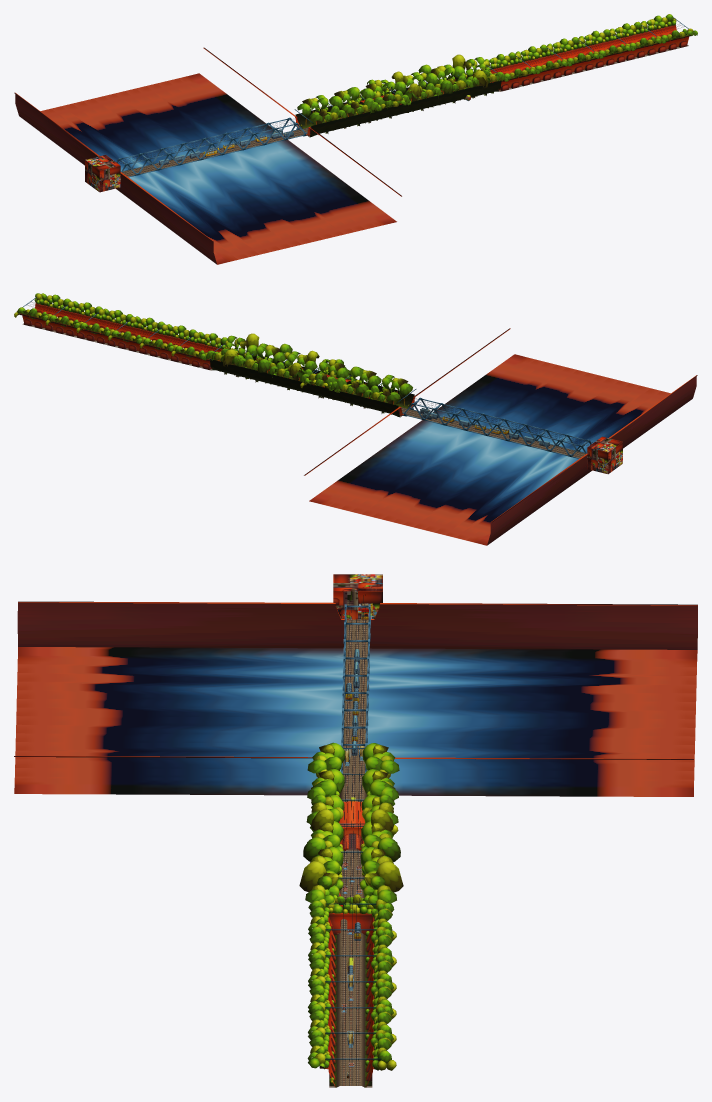
3 views of the same model, one above another, from view 1: azimuth 30°, elevation 25°; view 2: azimuth 150°, elevation 25°; view 3: azimuth 270°, elevation 25° (orthographic). The views are drawn at different scales.
Visible parts, largest first — view 1: StaticMeshActor_247, StaticMeshActor_256, StaticMeshActor_237, StaticMeshActor_236, StaticMeshActor_238, StaticMeshActor_248; view 2: StaticMeshActor_247, StaticMeshActor_256, StaticMeshActor_237, StaticMeshActor_236, StaticMeshActor_238, StaticMeshActor_248; view 3: StaticMeshActor_247, StaticMeshActor_256, StaticMeshActor_237, StaticMeshActor_236, StaticMeshActor_238, StaticMeshActor_248, StaticMeshActor_280, StaticMeshActor_260.
Boxes of the visible parts, bbox=[...] form: StaticMeshActor_247: bbox=[14, 47, 401, 264]; StaticMeshActor_256: bbox=[295, 54, 508, 137]; StaticMeshActor_237: bbox=[609, 14, 697, 61]; StaticMeshActor_236: bbox=[547, 29, 635, 76]; StaticMeshActor_238: bbox=[484, 44, 571, 91]; StaticMeshActor_248: bbox=[85, 155, 120, 192]; StaticMeshActor_247: bbox=[304, 328, 697, 545]; StaticMeshActor_256: bbox=[202, 333, 415, 417]; StaticMeshActor_237: bbox=[14, 293, 102, 339]; StaticMeshActor_236: bbox=[76, 308, 164, 354]; StaticMeshActor_238: bbox=[139, 324, 227, 370]; StaticMeshActor_248: bbox=[587, 436, 622, 474]; StaticMeshActor_247: bbox=[14, 594, 697, 796]; StaticMeshActor_256: bbox=[299, 742, 403, 930]; StaticMeshActor_237: bbox=[307, 1003, 396, 1087]; StaticMeshActor_236: bbox=[308, 952, 396, 1036]; StaticMeshActor_238: bbox=[308, 900, 396, 984]; StaticMeshActor_248: bbox=[333, 574, 382, 619]; StaticMeshActor_280: bbox=[327, 894, 373, 934]; StaticMeshActor_260: bbox=[310, 796, 398, 850].
Size of the model in its own units: 363 by 25.62 by 216.
Materials: 7 (7 with a texture image).
